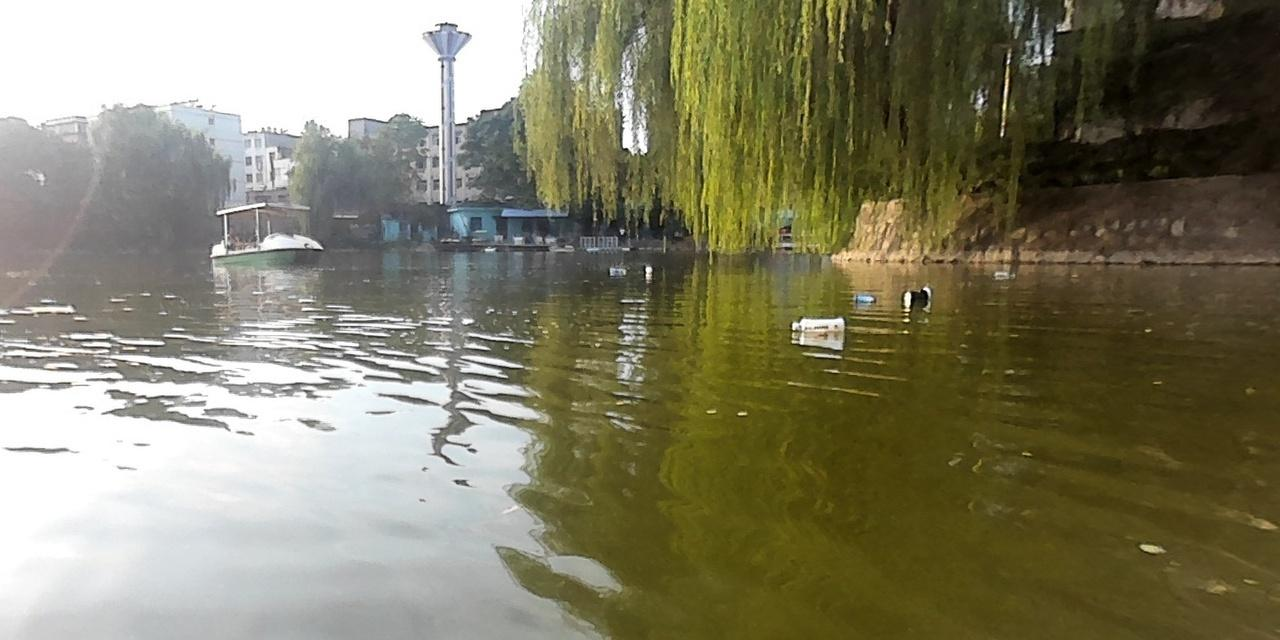bottle: (787, 315, 846, 335), (899, 284, 935, 308), (990, 266, 1020, 279), (604, 264, 631, 276), (853, 292, 878, 303)
